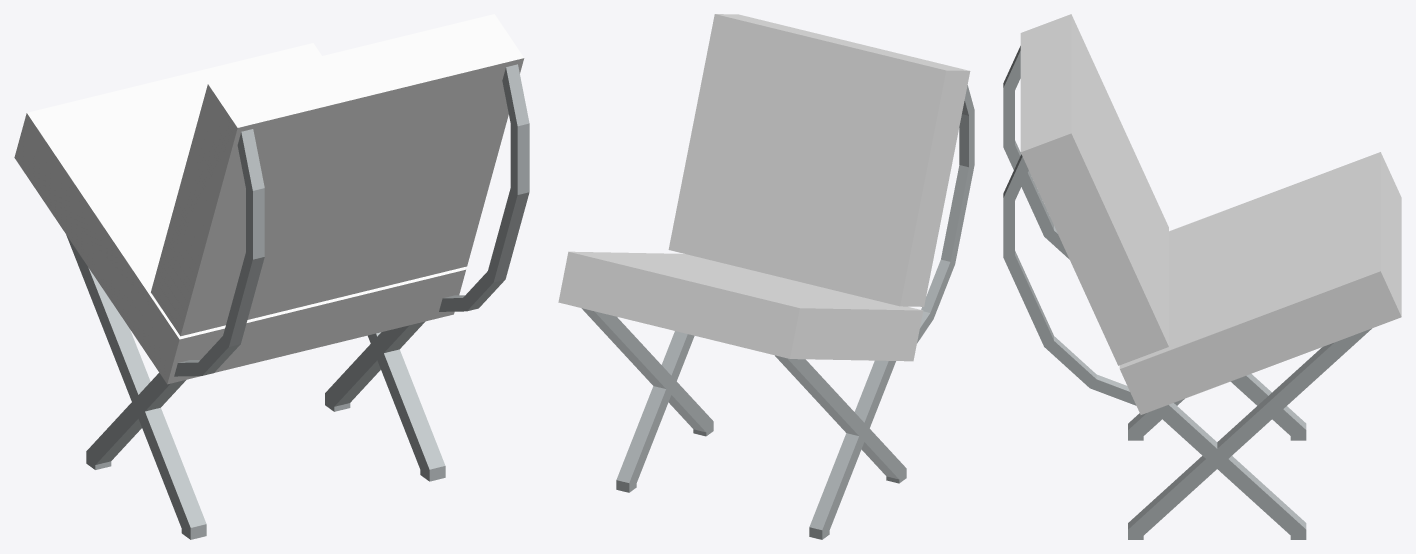
The model's file is white_chair2.obj.
3 renders of one model, left to right at view 1: azimuth 30°, elevation 25°; view 2: azimuth 150°, elevation 25°; view 3: azimuth 270°, elevation 25°, orthographic. The views are drawn at different scales.
Visible parts, largest first — view 1: cube.000, cube, cube.011, cube.013, cube.012, cube.014, cube.003, cube.008, cube.004, cube.009, cube.010, cube.005 (+2 smaller); view 2: cube.000, cube, cube.012, cube.011, cube.013, cube.014, cube.008, cube.007, cube.009; view 3: cube, cube.000, cube.013, cube.014, cube.003, cube.012, cube.008, cube.002, cube.004, cube.009, cube.001, cube.011 (+1 smaller).
Boxes of the visible parts, x1=… form: cube.000: x1=151, y1=14, x2=524, y2=336; cube: x1=14, y1=43, x2=466, y2=384; cube.011: x1=66, y1=235, x2=206, y2=528; cube.013: x1=368, y1=332, x2=445, y2=476; cube.012: x1=86, y1=373, x2=185, y2=467; cube.014: x1=325, y1=321, x2=425, y2=409; cube.003: x1=487, y1=187, x2=529, y2=282; cube.008: x1=223, y1=252, x2=264, y2=346; cube.004: x1=510, y1=121, x2=529, y2=194; cube.009: x1=246, y1=186, x2=264, y2=259; cube.010: x1=237, y1=129, x2=264, y2=190; cube.005: x1=502, y1=64, x2=529, y2=126; cube.000: x1=668, y1=14, x2=970, y2=306; cube: x1=558, y1=251, x2=923, y2=361; cube.012: x1=809, y1=360, x2=895, y2=534; cube.011: x1=775, y1=355, x2=906, y2=481; cube.013: x1=581, y1=308, x2=713, y2=434; cube.014: x1=616, y1=331, x2=694, y2=487; cube.008: x1=941, y1=165, x2=974, y2=263; cube.007: x1=921, y1=259, x2=954, y2=318; cube.009: x1=959, y1=110, x2=974, y2=167; cube: x1=1119, y1=152, x2=1401, y2=414; cube.000: x1=1020, y1=14, x2=1168, y2=365; cube.013: x1=1128, y1=328, x2=1371, y2=539; cube.014: x1=1153, y1=403, x2=1306, y2=539; cube.003: x1=1003, y1=251, x2=1054, y2=346; cube.012: x1=1230, y1=374, x2=1306, y2=439; cube.008: x1=1003, y1=140, x2=1054, y2=236; cube.002: x1=1044, y1=336, x2=1096, y2=387; cube.004: x1=1003, y1=198, x2=1014, y2=257; cube.009: x1=1003, y1=88, x2=1014, y2=146; cube.001: x1=1090, y1=374, x2=1136, y2=405; cube.011: x1=1128, y1=398, x2=1184, y2=439.
Size of the model in its own units: 1.12 by 1.82 by 1.59.
